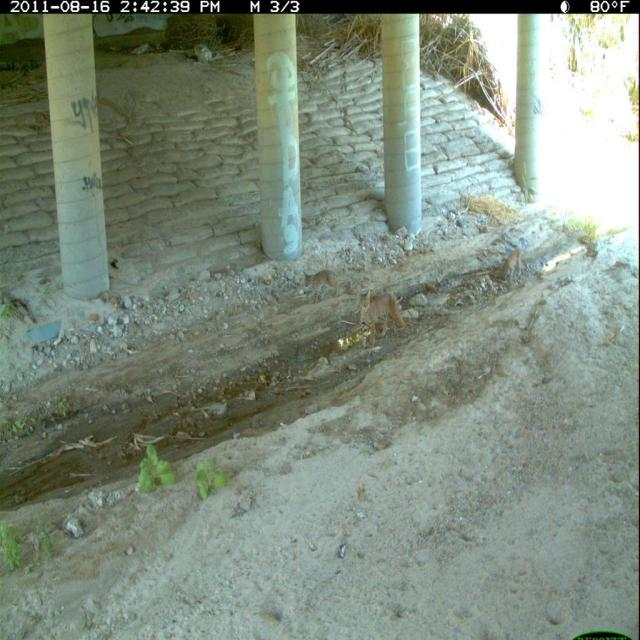bobcat: (354, 284, 411, 355), (302, 265, 343, 309), (500, 243, 527, 287)
